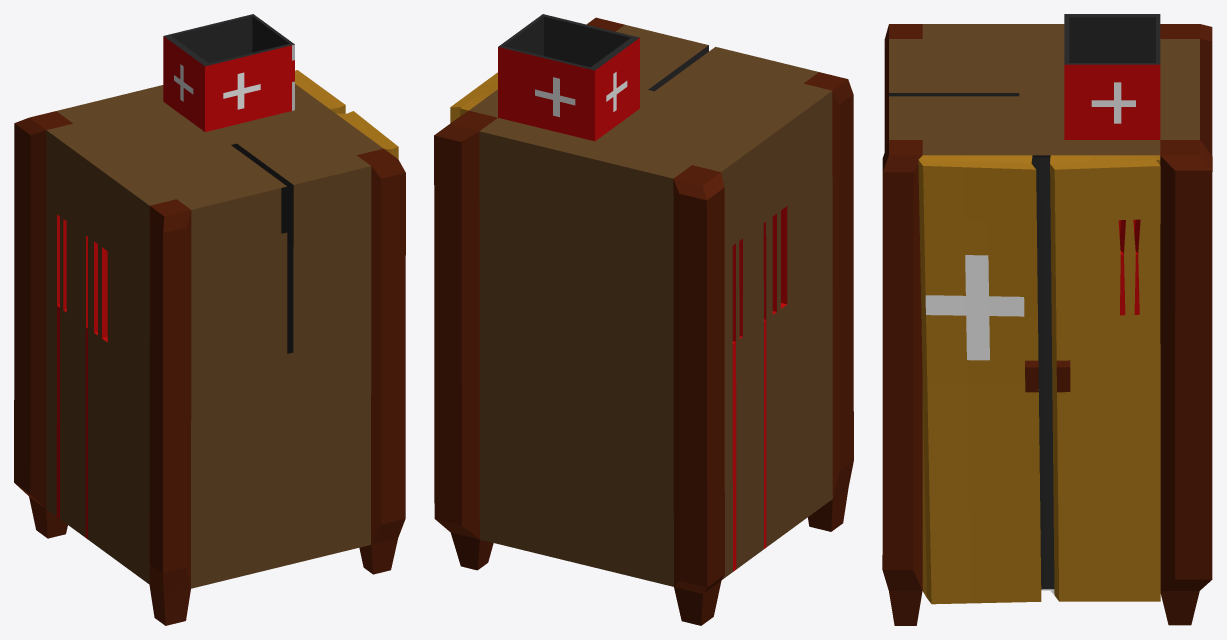
Rendered from cupboard.fbx.
The picture shows the model from 3 angles, left to right: view 1: azimuth 30°, elevation 25°; view 2: azimuth 150°, elevation 25°; view 3: azimuth 270°, elevation 25°; orthographic projection. The views are drawn at different scales.
Visible parts, largest first — view 1: Cube; view 2: Cube; view 3: Cube.
Part boxes in pixels (<box>): Cube: <box>14,14,405,625</box>; Cube: <box>434,14,853,625</box>; Cube: <box>882,14,1212,625</box>.
Bounding box in the file's own units: 235 × 390 × 212.
